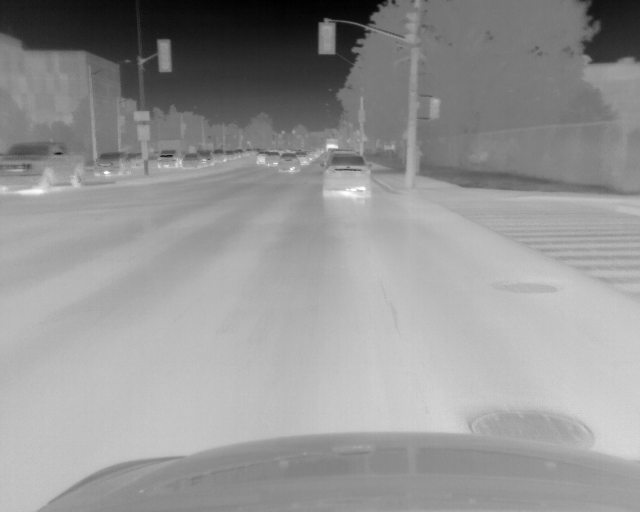car: (1, 142, 87, 194), (322, 151, 371, 196), (92, 152, 126, 177), (155, 150, 179, 172), (278, 154, 300, 173), (128, 152, 148, 171), (182, 153, 203, 170), (265, 152, 280, 167), (200, 152, 214, 168), (212, 150, 225, 163), (298, 153, 310, 166), (256, 151, 267, 165), (310, 149, 319, 161)
